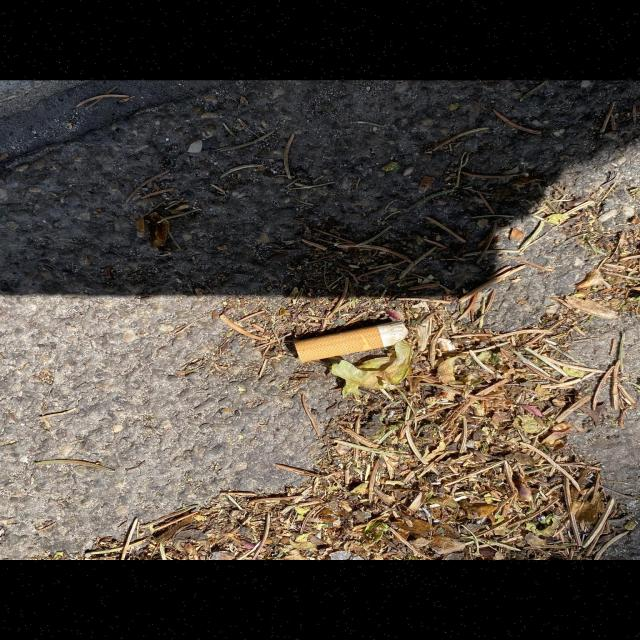other waste: (292, 320, 411, 362)
